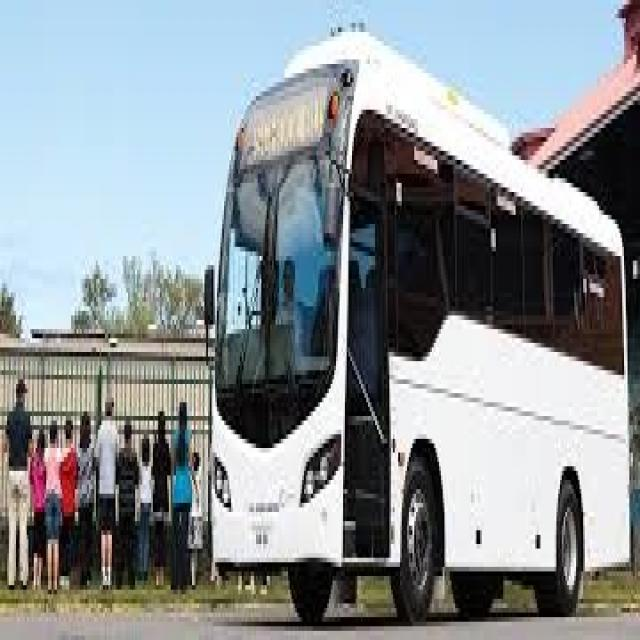bus: (208, 9, 640, 631)
